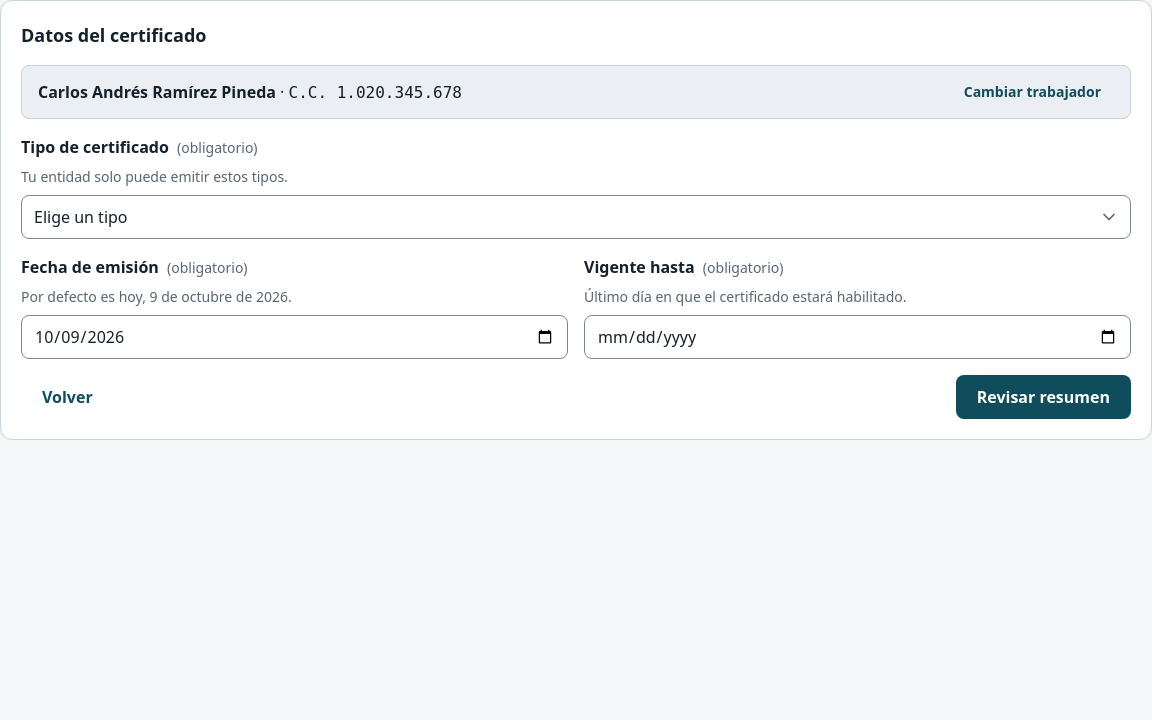
it: DetailsStep › still blocks on the last day of validity
Select "Trabajo en alturas" in the dropdown labelled "Tipo de certificado (obligatorio)". click: (576, 217)
box: 21,195 -> 1131,239
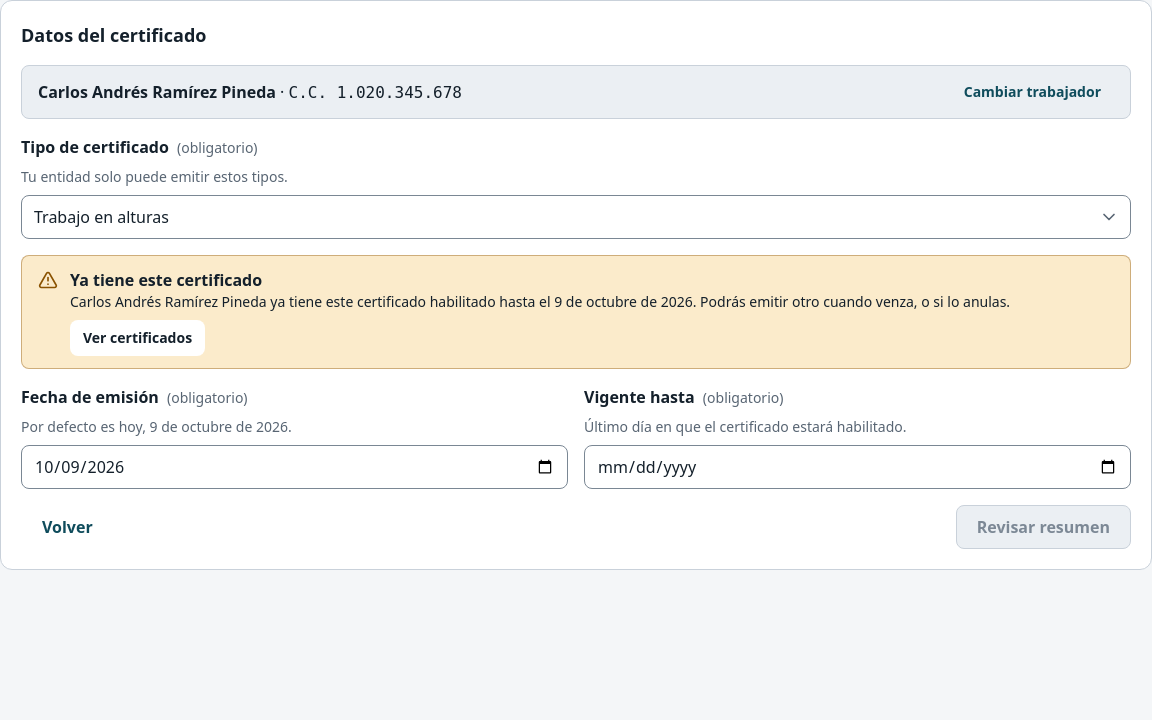
Check: the text "hasta el 9 de octubre de 2026" is shown, box 70,292 -> 1010,311
Check: the button "Revisar resumen" is disabled, box 956,505 -> 1131,549
